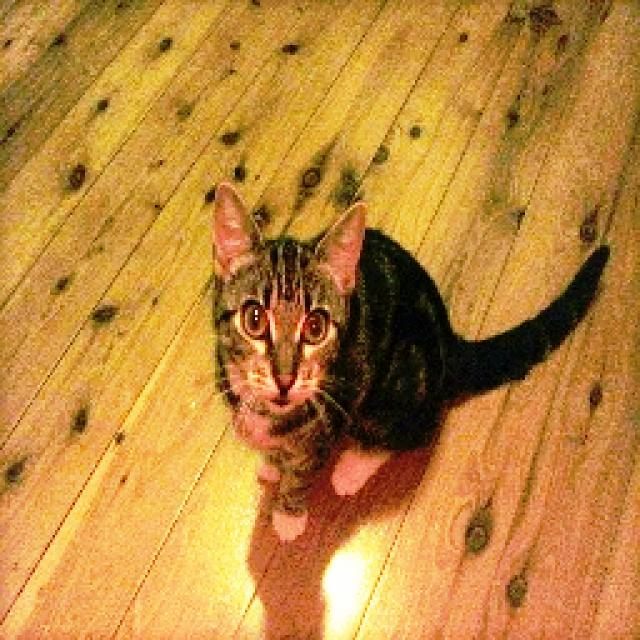cat: (150, 170, 615, 532)
